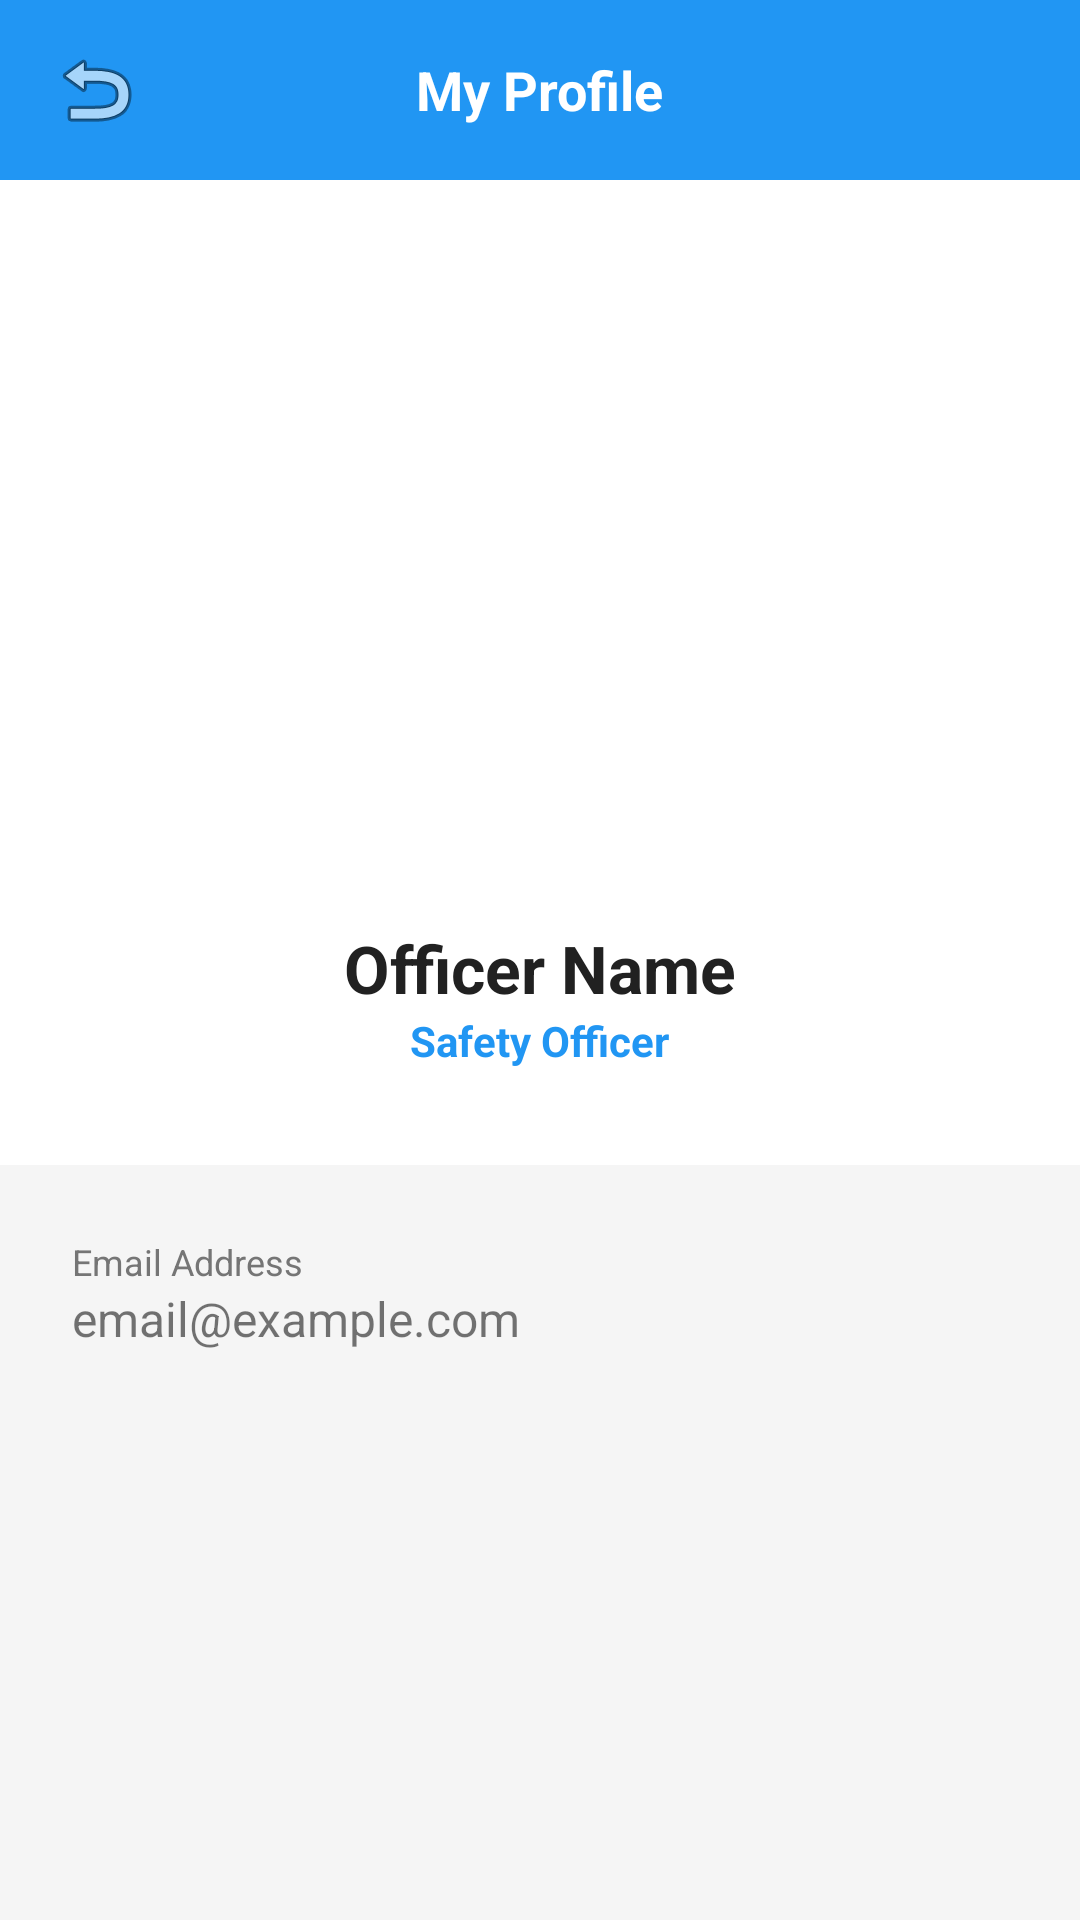

Icon click points for this 1080x1920 phone screenshot, format (x,y):
revert: (97,90)
